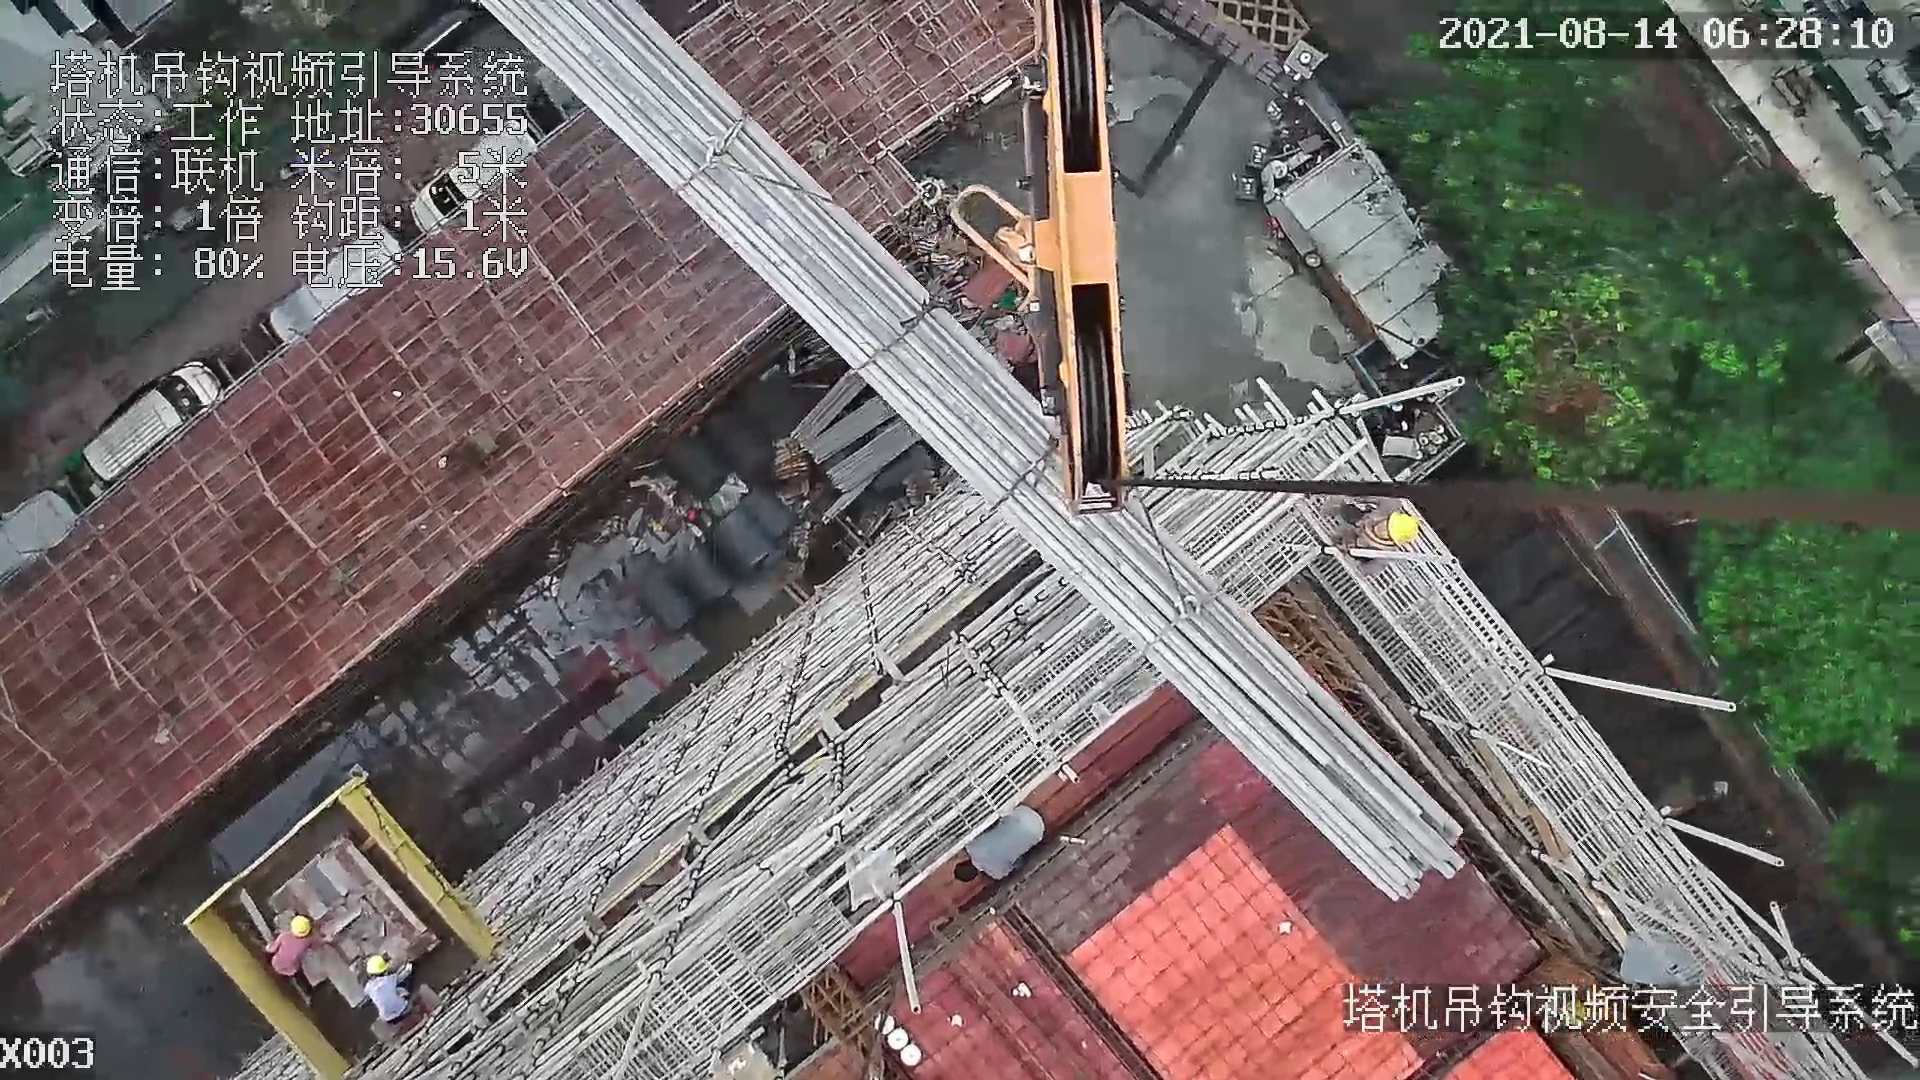helmet: (1379, 503, 1429, 560), (363, 950, 400, 981), (283, 912, 318, 940)
person: (1332, 500, 1422, 581), (347, 949, 420, 1027), (267, 914, 322, 973)
